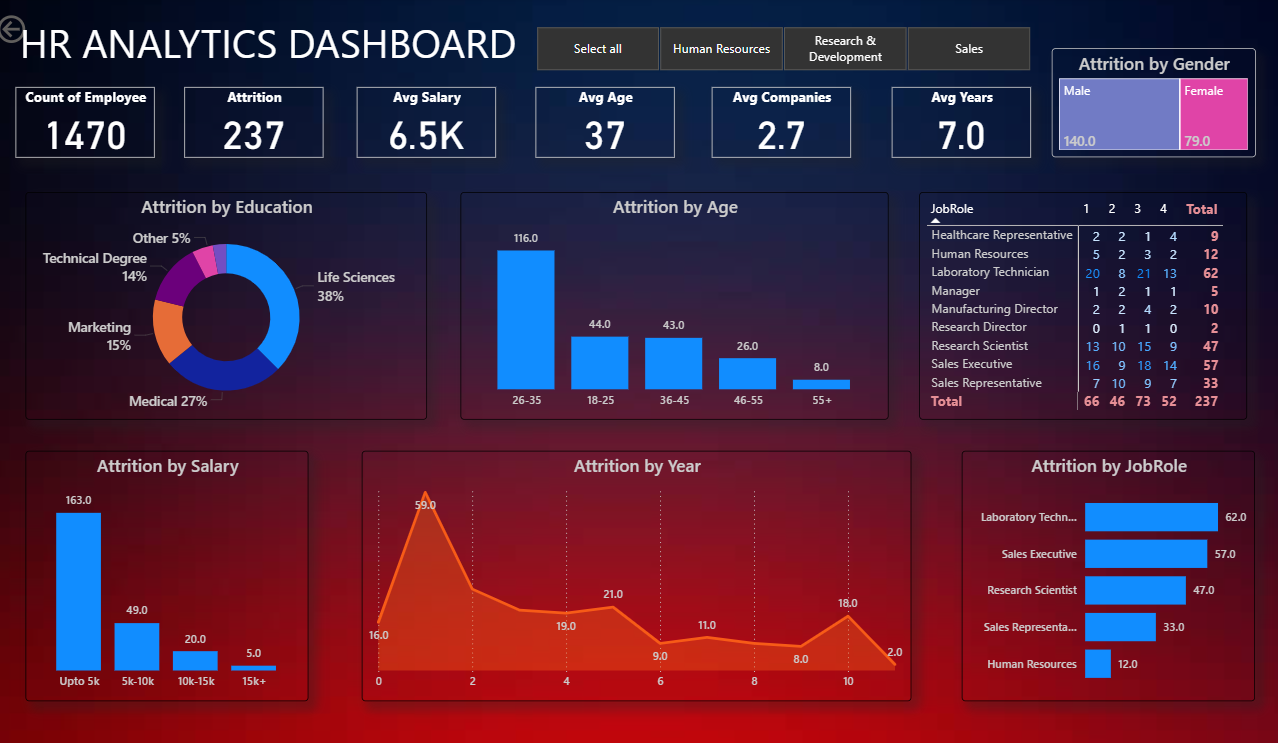

The dashboard page shown, as its layout file describes it:
{"tool":"powerbi","page":{"name":"Page 1","canvas":[1400,810],"ordinal":0},"visuals":[{"type":"card","title":"Count of Employee","fields":{"Values":["CountNonNull(HR_Analytics.EmpID)"]},"box":[24.4,97.6,151.3,76.4],"z":0},{"type":"card","title":"Attrition","fields":{"Values":["Sum(HR_Analytics.AttritionCount)"]},"box":[208.2,97.6,151.3,76.4],"z":1000},{"type":"card","title":"Avg Salary","fields":{"Values":["Avg(HR_Analytics.MonthlyIncome)"]},"box":[395.2,97.6,151.3,76.4],"z":2000},{"type":"card","title":"Avg Age ","fields":{"Values":["Avg(HR_Analytics.Age)"]},"box":[588.8,97.6,151.3,76.4],"z":3000},{"type":"card","title":" Avg Years","fields":{"Values":["Avg(HR_Analytics.YearsAtCompany)"]},"box":[975.9,97.6,151.3,76.4],"z":4000},{"type":"card","title":"Avg Companies","fields":{"Values":["Avg(HR_Analytics.NumCompaniesWorked)"]},"box":[780.7,97.6,151.3,76.4],"z":5000},{"type":"donutChart","title":"Attrition by Education","fields":{"Y":["Sum(HR_Analytics.AttritionCount)"],"Category":["HR_Analytics.EducationField"]},"box":[35.8,211.4,435.9,247.2],"z":6000},{"type":"columnChart","title":"Attrition by Age","fields":{"Category":["HR_Analytics.AgeGroup"],"Y":["Sum(HR_Analytics.AttritionCount)"]},"box":[507.5,211.4,465.2,247.2],"z":7000},{"type":"pivotTable","fields":{"Values":["Sum(HR_Analytics.AttritionCount)"],"Rows":["HR_Analytics.JobRole"],"Columns":["HR_Analytics.JobSatisfaction"]},"box":[1005.2,211.4,356.2,247.2],"z":8000},{"type":"actionButton","box":[0,14.6,100,40],"z":9000},{"type":"columnChart","title":"Attrition by Salary","fields":{"Category":["HR_Analytics.SalarySlab"],"Y":["Sum(HR_Analytics.AttritionCount)"]},"box":[35.8,492.8,307.4,271.6],"z":10000},{"type":"barChart","title":"Attrition by JobRole","fields":{"Category":["HR_Analytics.JobRole"],"Y":["Sum(HR_Analytics.AttritionCount)"]},"box":[1052.3,492.8,318.8,271.6],"z":11000},{"type":"areaChart","title":"Attrition by Year","fields":{"Category":["HR_Analytics.YearsAtCompany"],"Y":["Sum(HR_Analytics.AttritionCount)"]},"box":[400.1,492.8,596.9,271.6],"z":12000},{"type":"treemap","title":"Attrition by Gender","fields":{"Values":["Sum(HR_Analytics.AttritionCount)"],"Group":["HR_Analytics.Gender"]},"box":[1149.9,55.3,221.2,118.7],"z":13000},{"type":"textbox","box":[24.1,15.1,564.5,72.3],"z":14000},{"type":"slicer","fields":{"Values":["HR_Analytics.Department"]},"box":[564.5,25.6,585.6,60.2],"z":15000}]}

Visuals, with their boxes in screenshot pixels (x1, y1, x2, y2), scaled from the page's 1400x810 canvas onto the 1278x743 screenshot:
"Count of Employee" card: 22 90 160 160
"Attrition" card: 190 90 328 160
"Avg Salary" card: 361 90 499 160
"Avg Age " card: 537 90 676 160
" Avg Years" card: 891 90 1029 160
"Avg Companies" card: 713 90 851 160
"Attrition by Education" donutChart: 33 194 431 421
"Attrition by Age" columnChart: 463 194 888 421
pivotTable - Sum(HR_Analytics.AttritionCount) x HR_Analytics.JobRole: 918 194 1243 421
actionButton: 0 13 91 50
"Attrition by Salary" columnChart: 33 452 313 701
"Attrition by JobRole" barChart: 961 452 1252 701
"Attrition by Year" areaChart: 365 452 910 701
"Attrition by Gender" treemap: 1050 51 1252 160
textbox: 22 14 537 80
slicer - HR_Analytics.Department: 515 23 1050 79
